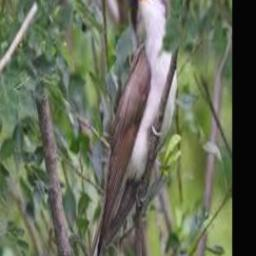Cuckoo: (86, 0, 176, 256)
